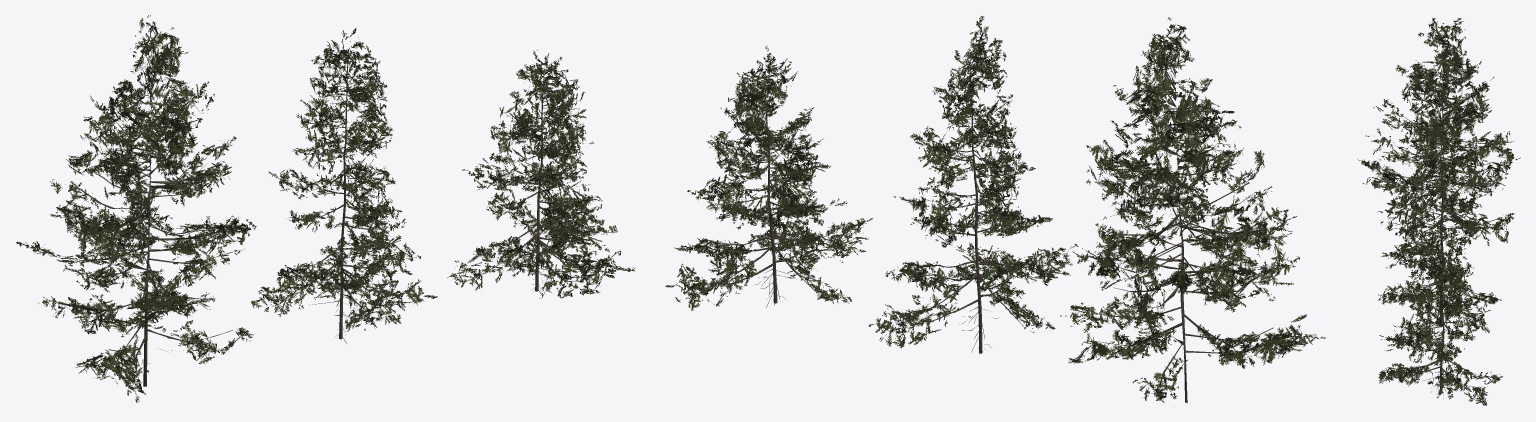
Rendered from fir_sapling_medium.glb.
The picture shows the model from 3 angles, left to right: view 1: azimuth 30°, elevation 25°; view 2: azimuth 150°, elevation 25°; view 3: azimuth 270°, elevation 25°; orthographic projection. The views are drawn at different scales.
Visible parts, largest first — view 1: fir_sapling_medium_a_LOD0, fir_sapling_medium_b_LOD0, fir_sapling_medium_c_LOD0; view 2: fir_sapling_medium_a_LOD0, fir_sapling_medium_b_LOD0, fir_sapling_medium_c_LOD0; view 3: fir_sapling_medium_a_LOD0, fir_sapling_medium_c_LOD0, fir_sapling_medium_b_LOD0.
Boxes of the visible parts, left/top/right/bottom form: fir_sapling_medium_a_LOD0: left=16, top=15, right=256, bottom=402; fir_sapling_medium_b_LOD0: left=251, top=28, right=437, bottom=343; fir_sapling_medium_c_LOD0: left=447, top=50, right=634, bottom=298; fir_sapling_medium_a_LOD0: left=1060, top=17, right=1325, bottom=403; fir_sapling_medium_b_LOD0: left=868, top=16, right=1078, bottom=354; fir_sapling_medium_c_LOD0: left=665, top=45, right=872, bottom=310; fir_sapling_medium_a_LOD0: left=1357, top=18, right=1520, bottom=254; fir_sapling_medium_c_LOD0: left=1378, top=228, right=1502, bottom=405; fir_sapling_medium_b_LOD0: left=1378, top=112, right=1501, bottom=332.
Size of the model in its own units: 14.83 by 8.9 by 5.32.
3 materials, 3 textured.
